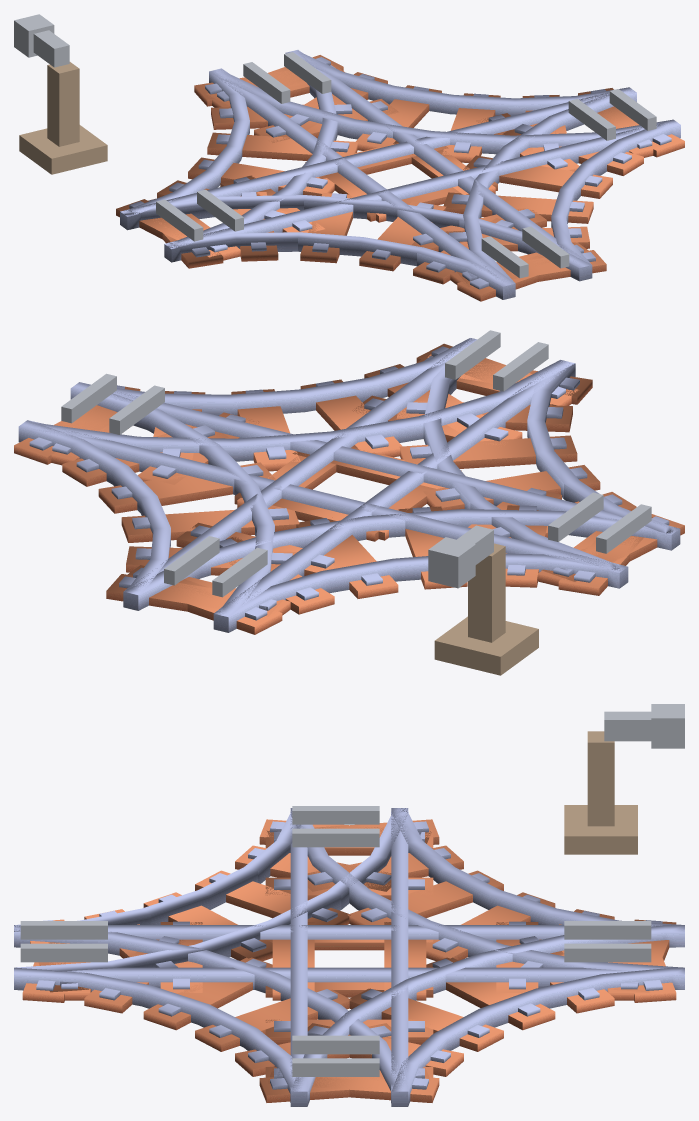
File: switch-slip.glb
3 views of the same model, one above another, from view 1: azimuth 30°, elevation 25°; view 2: azimuth 150°, elevation 25°; view 3: azimuth 270°, elevation 25° (orthographic). The views are drawn at different scales.
Parts seen in each view (by area): view 1: switch_cross, switch_arc_sw, switch_arc_se, switch_arc_ne, switch_arc_nw, switch_lever_base, switch_lever_arm, switch_blades_blade_-1, switch_blades, switch_blades_east_blade_-1, switch_blades_east, switch_blades_north (+3 smaller); view 2: switch_cross, switch_arc_ne, switch_arc_nw, switch_arc_se, switch_arc_sw, switch_lever_base, switch_lever_arm, switch_blades_blade_-1, switch_blades_west_blade_-1, switch_blades, switch_blades_east, switch_blades_west (+3 smaller); view 3: switch_cross, switch_arc_ne, switch_arc_se, switch_arc_nw, switch_arc_sw, switch_lever_base, switch_lever_arm, switch_blades_east_blade_-1, switch_blades_west, switch_blades, switch_blades_north, switch_blades_blade_-1 (+3 smaller).
Boxes of the visible parts, bbox=[...] form: switch_cross: bbox=[120, 51, 680, 299]; switch_arc_sw: bbox=[120, 192, 591, 301]; switch_arc_se: bbox=[443, 88, 684, 284]; switch_arc_ne: bbox=[207, 50, 678, 162]; switch_arc_nw: bbox=[116, 50, 360, 256]; switch_lever_base: bbox=[19, 62, 107, 174]; switch_lever_arm: bbox=[14, 14, 69, 67]; switch_blades_blade_-1: bbox=[481, 236, 528, 278]; switch_blades: bbox=[522, 226, 569, 268]; switch_blades_east_blade_-1: bbox=[568, 99, 615, 140]; switch_blades_east: bbox=[609, 89, 656, 130]; switch_blades_north: bbox=[284, 52, 331, 93]; switch_cross: bbox=[28, 338, 680, 632]; switch_arc_ne: bbox=[14, 382, 299, 617]; switch_arc_nw: bbox=[124, 505, 678, 634]; switch_arc_se: bbox=[19, 338, 576, 471]; switch_arc_sw: bbox=[396, 338, 684, 581]; switch_lever_base: bbox=[434, 543, 538, 675]; switch_lever_arm: bbox=[428, 525, 493, 588]; switch_blades_blade_-1: bbox=[493, 342, 548, 391]; switch_blades_west_blade_-1: bbox=[596, 504, 651, 553]; switch_blades: bbox=[445, 330, 500, 379]; switch_blades_east: bbox=[61, 373, 116, 423]; switch_blades_west: bbox=[548, 492, 603, 541]; switch_cross: bbox=[14, 808, 684, 1106]; switch_arc_ne: bbox=[268, 925, 684, 1105]; switch_arc_se: bbox=[14, 925, 429, 1102]; switch_arc_nw: bbox=[267, 808, 684, 992]; switch_arc_sw: bbox=[14, 808, 431, 992]; switch_lever_base: bbox=[564, 731, 637, 854]; switch_lever_arm: bbox=[604, 704, 684, 748]; switch_blades_east_blade_-1: bbox=[292, 1035, 379, 1054]; switch_blades_west: bbox=[292, 828, 379, 847]; switch_blades: bbox=[20, 943, 107, 962]; switch_blades_north: bbox=[564, 943, 651, 962]; switch_blades_blade_-1: bbox=[20, 921, 107, 939].
Size of the model in its own units: 4 by 0.84 by 4.
4 materials, 2 textured.
